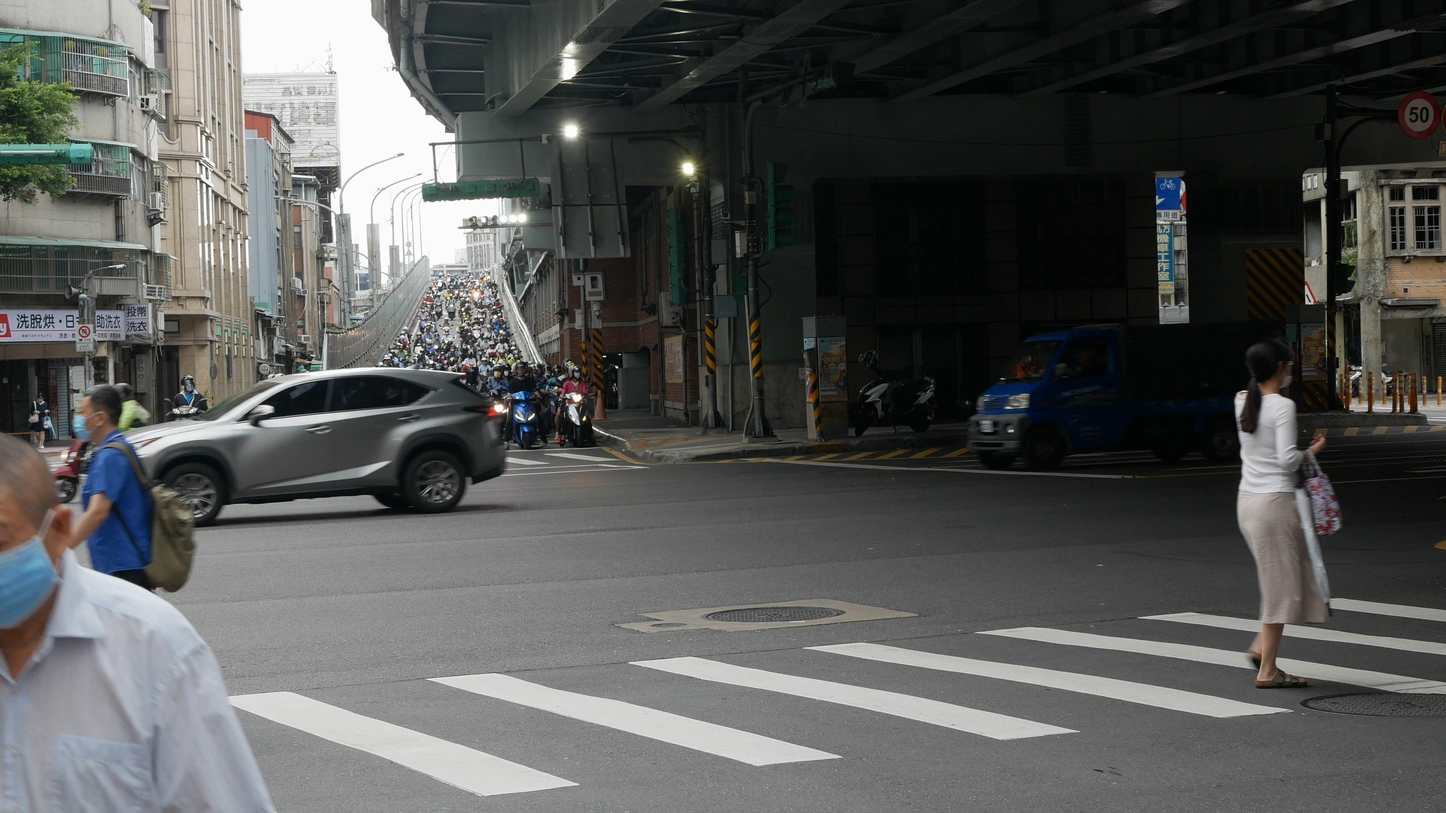driver: (500, 362, 548, 450), (554, 361, 597, 448), (163, 375, 208, 421)
helmet: (180, 375, 195, 393), (569, 365, 582, 384), (465, 366, 478, 385), (564, 361, 578, 378), (515, 361, 528, 377), (493, 364, 504, 382)
no-helmet: (0, 430, 73, 630), (73, 385, 122, 443), (1246, 339, 1293, 393)
